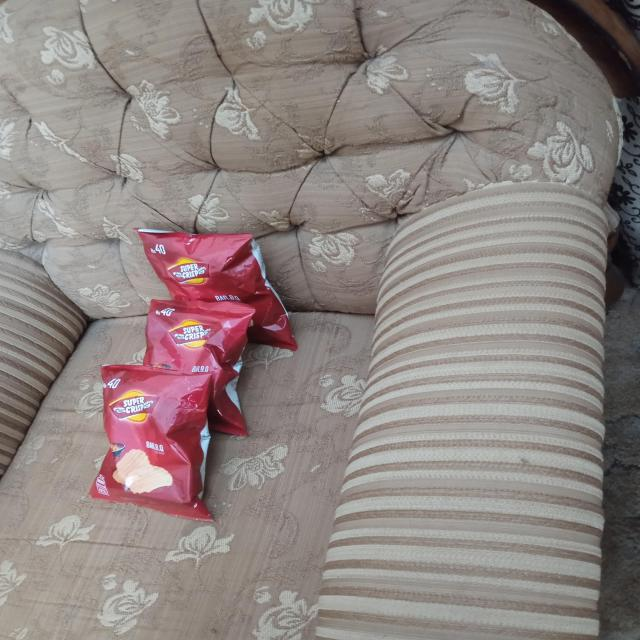Plastic: (99, 369, 210, 514), (144, 237, 268, 300), (146, 302, 250, 376)
